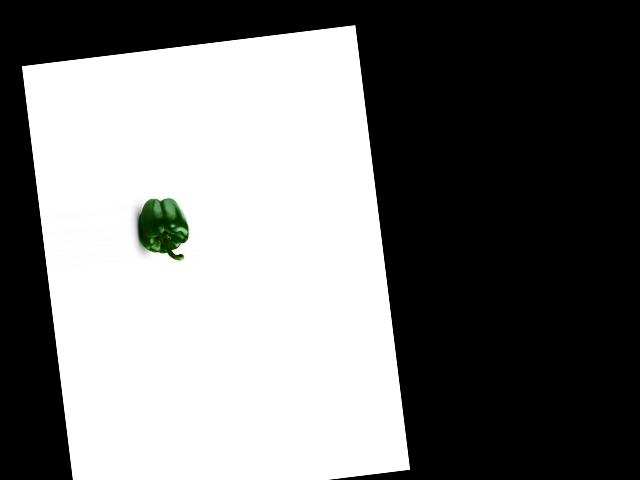bell_pepper: (135, 193, 193, 266)
